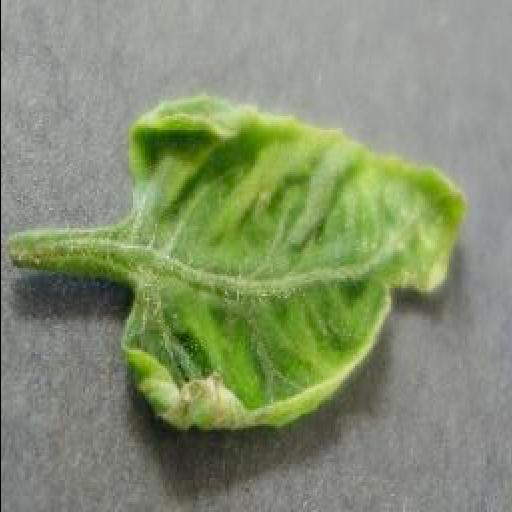disease_tomato: (114, 98, 470, 432)
